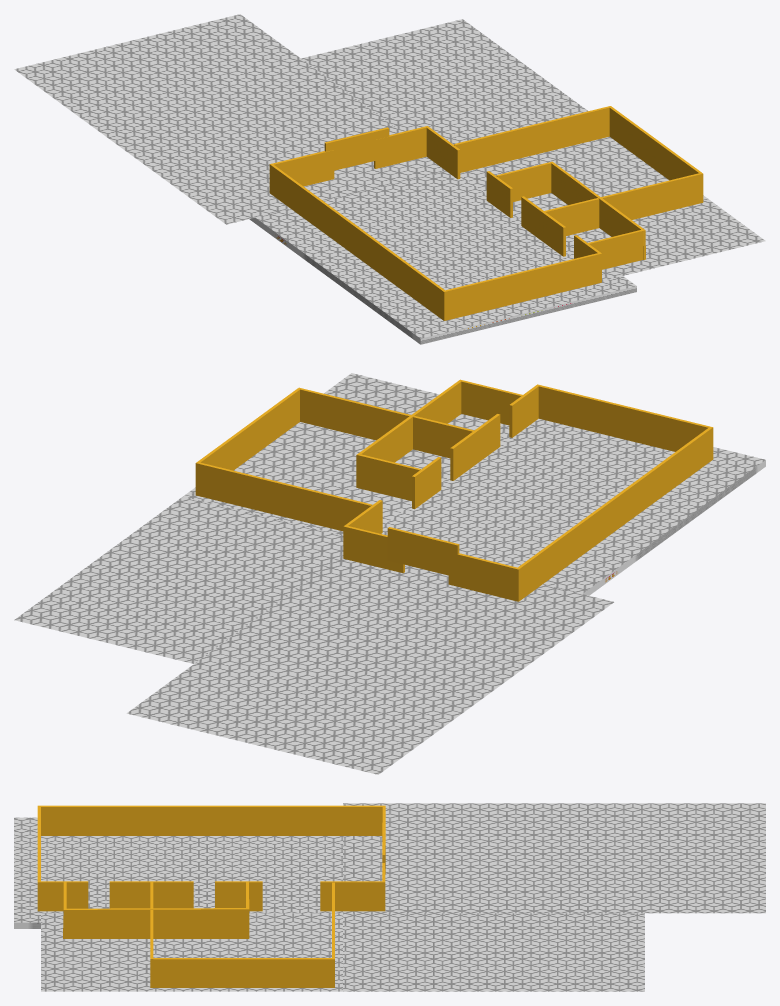
File: Environment Structure 00.fbx
3 renders of one model, top to bottom at view 1: azimuth 30°, elevation 25°; view 2: azimuth 150°, elevation 25°; view 3: azimuth 270°, elevation 25°, orthographic. The views are drawn at different scales.
Parts seen in each view (by area): view 1: ground (×3), Cube, wall_005 (×4), wall_014, wall_011 (×4), wall_003 (×2), wall_010, wall (×2), wall_007; view 2: ground (×3), Cube, wall_005 (×4), wall_014, wall_011 (×4), wall_003 (×2), wall_010, wall (×2), wall_004, wall_007; view 3: ground (×3), Cube, wall_014, wall_005 (×3), wall_010, wall (×2), wall_011, wall_004, wall_007.
Part boxes in pixels (<box>): ground (×3): <box>14,14,765,280</box>; Cube: <box>249,171,636,344</box>; wall_005 (×4): <box>442,106,703,320</box>; wall_014: <box>271,164,444,319</box>; wall_011 (×4): <box>374,126,642,269</box>; wall_003 (×2): <box>269,127,389,193</box>; wall_010: <box>551,162,645,259</box>; wall (×2): <box>486,171,546,242</box>; wall_007: <box>545,213,565,256</box>; ground (×3): <box>14,373,613,774</box>; Cube: <box>381,418,765,595</box>; wall_005 (×4): <box>195,384,713,531</box>; wall_014: <box>518,428,711,600</box>; wall_011 (×4): <box>343,380,522,573</box>; wall_003 (×2): <box>387,527,520,601</box>; wall_010: <box>358,379,462,462</box>; wall (×2): <box>412,429,479,509</box>; wall_004: <box>509,385,538,437</box>; wall_007: <box>477,414,500,461</box>; ground (×3): <box>41,803,765,991</box>; Cube: <box>14,817,342,928</box>; wall_014: <box>41,805,382,835</box>; wall_005 (×3): <box>37,805,334,987</box>; wall_010: <box>63,908,245,938</box>; wall (×2): <box>146,881,262,911</box>; wall_011: <box>320,881,382,911</box>; wall_004: <box>41,881,88,911</box>; wall_007: <box>109,881,146,908</box>.
Size of the model in its own units: 6642 by 714 by 11193.
1 material, 1 textured.
